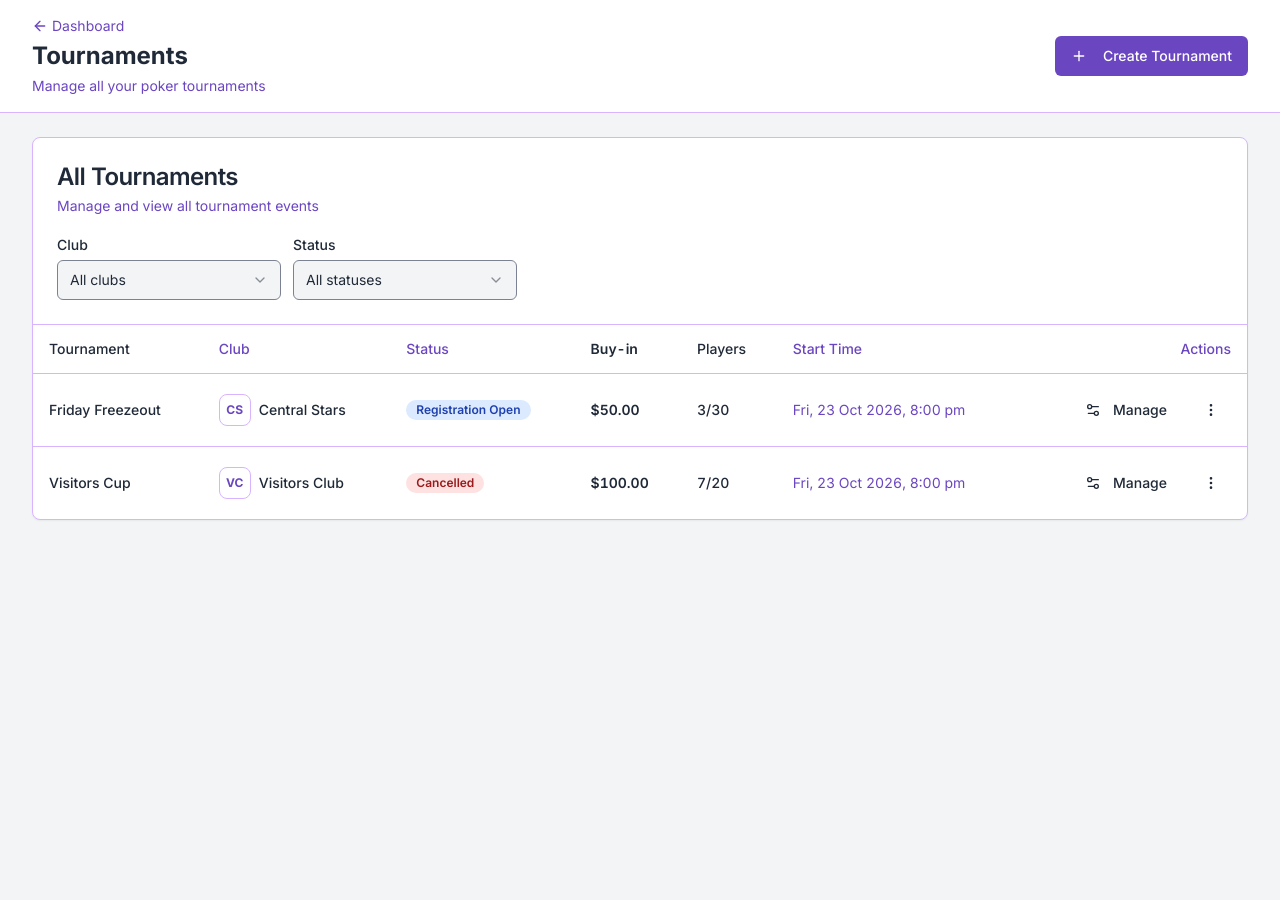
TournamentsListPage › copying a link › says it was copied only when it was
Step 1. Click the button named "More for Friday Freezeout" → click(1211, 410), box [1191,390,1231,430]
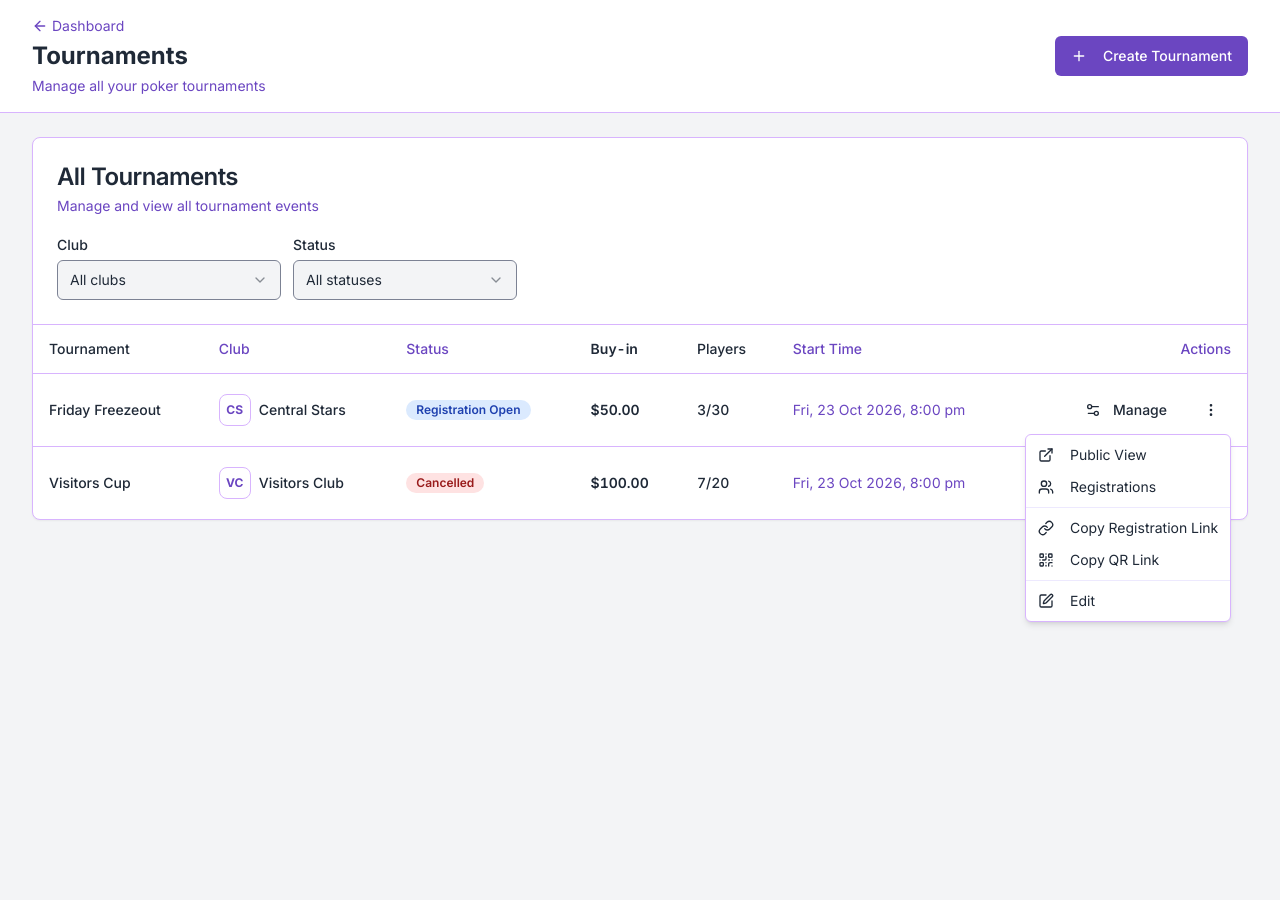
Step 2. Click the menu item with test id "copy-registration-link-t1" → click(1128, 528), box [1038,519,1218,536]
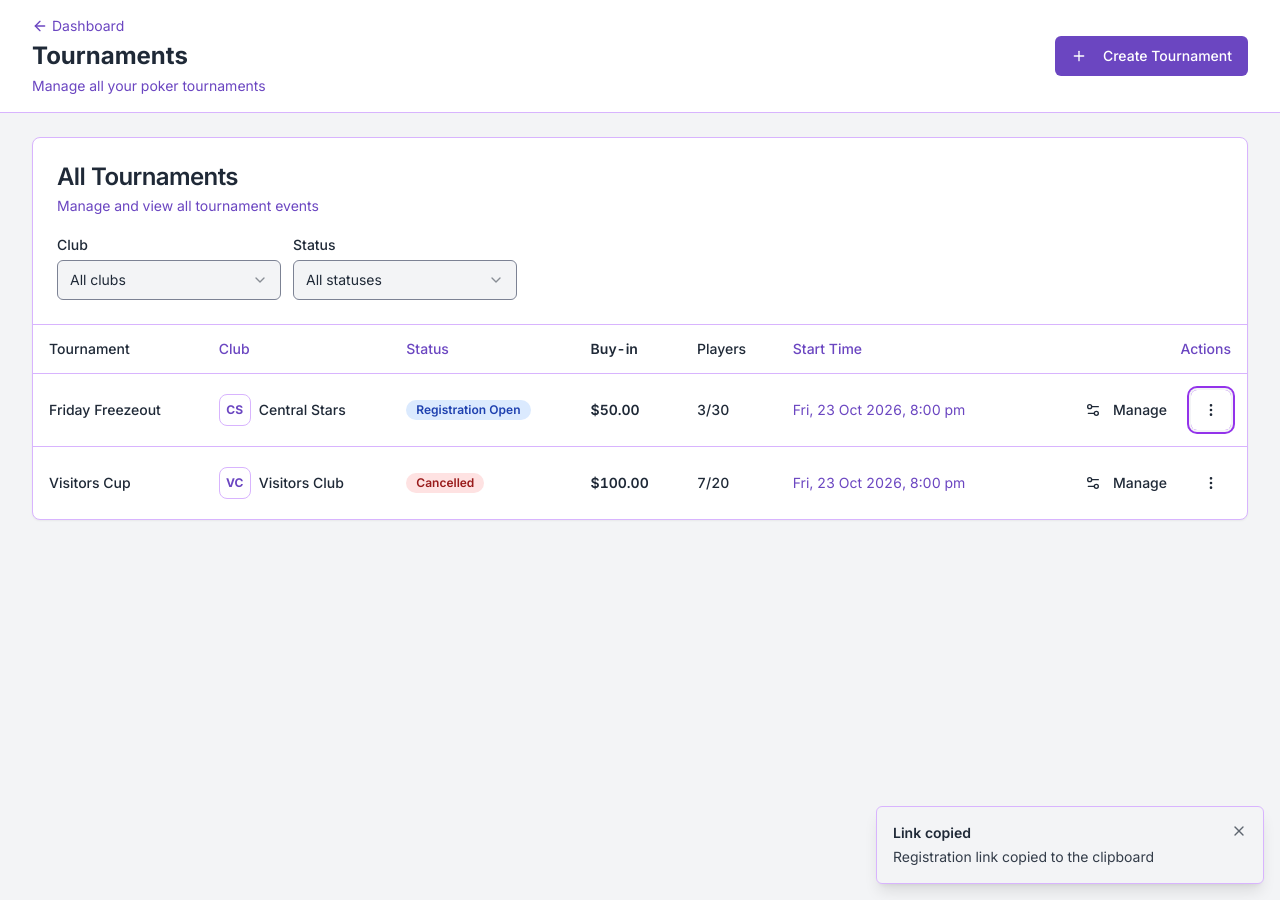
Expected: the text "Registration link copied to the clipboard" is shown, [893,848,1154,865]
Step 3. Click the button named "More for Friday Freezeout" → click(1211, 410), box [1191,390,1231,430]
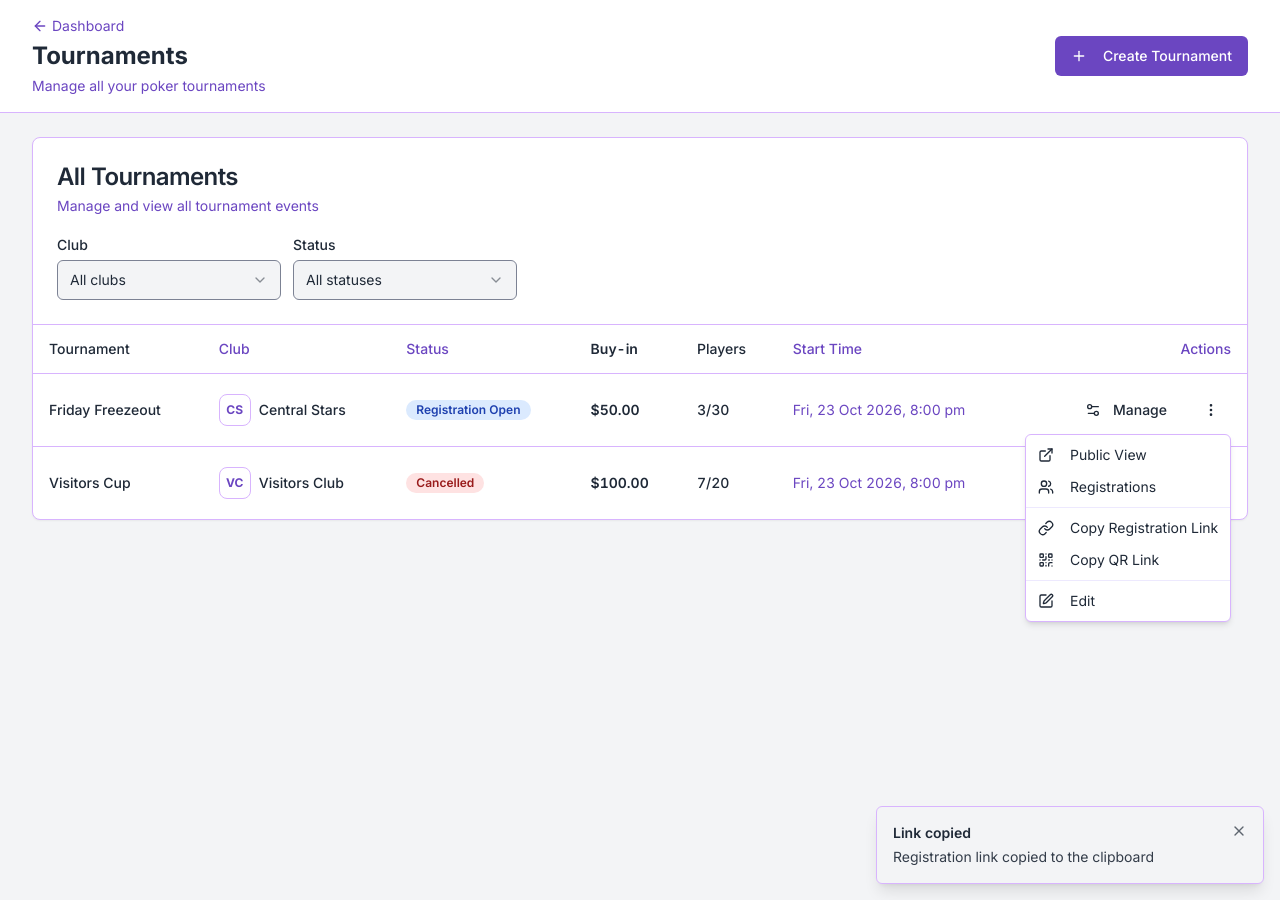
Step 4. Click the menu item with test id "copy-qr-link-t1" → click(1099, 560), box [1038,551,1159,568]
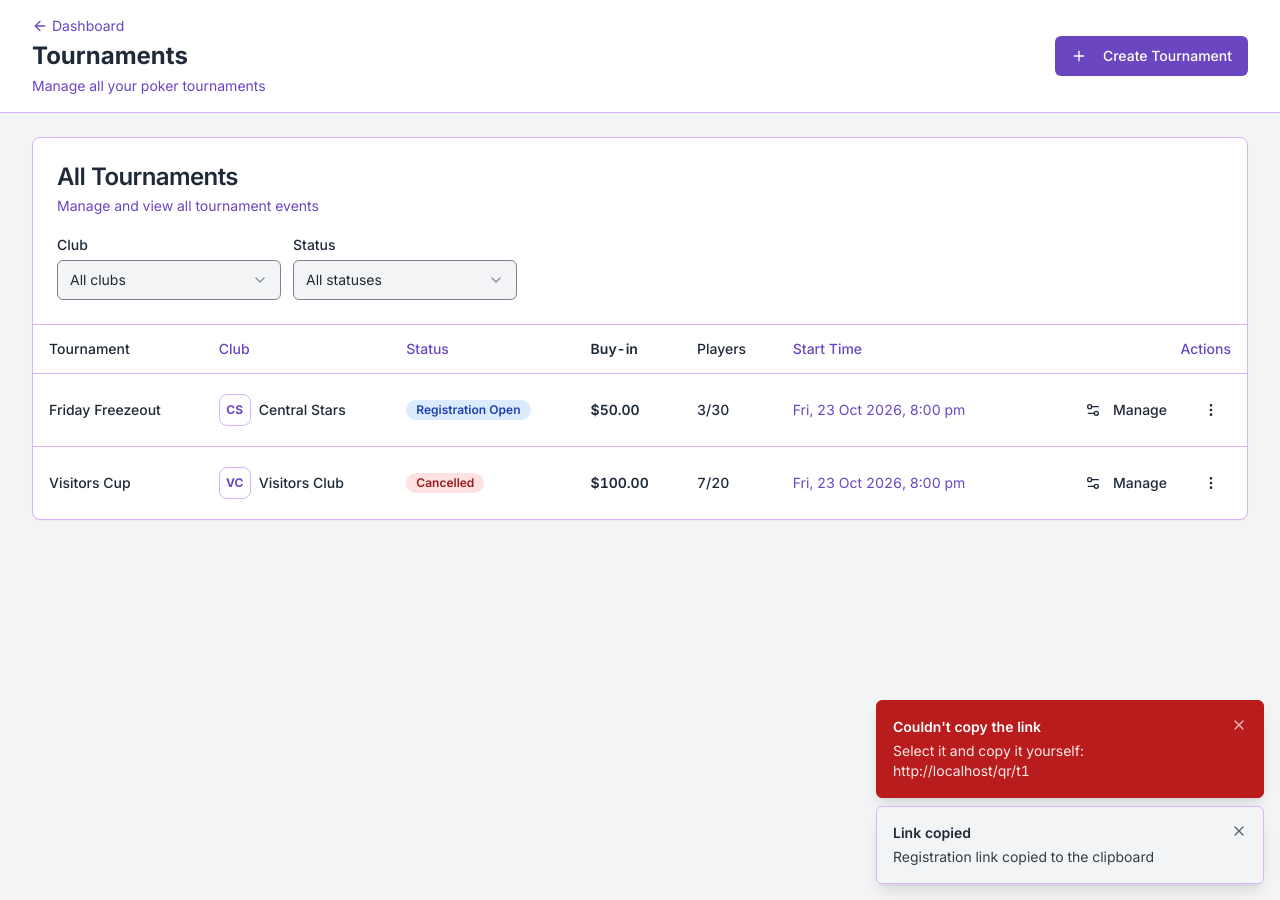
Expected: the text "Couldn't copy the link" is shown, [893,718,1041,735]
